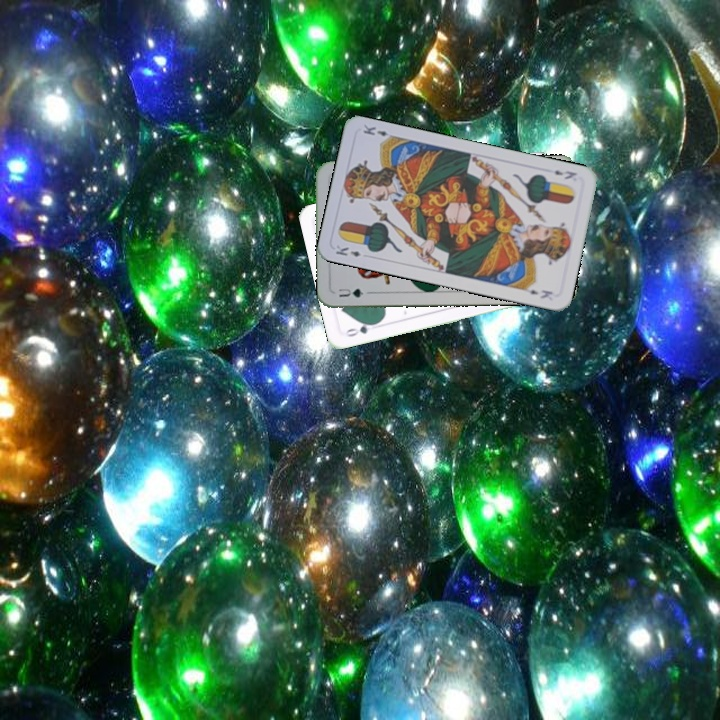EK: (331, 241, 363, 260), (550, 166, 579, 182)
GO: (341, 318, 380, 339)
GU: (334, 284, 366, 300)
